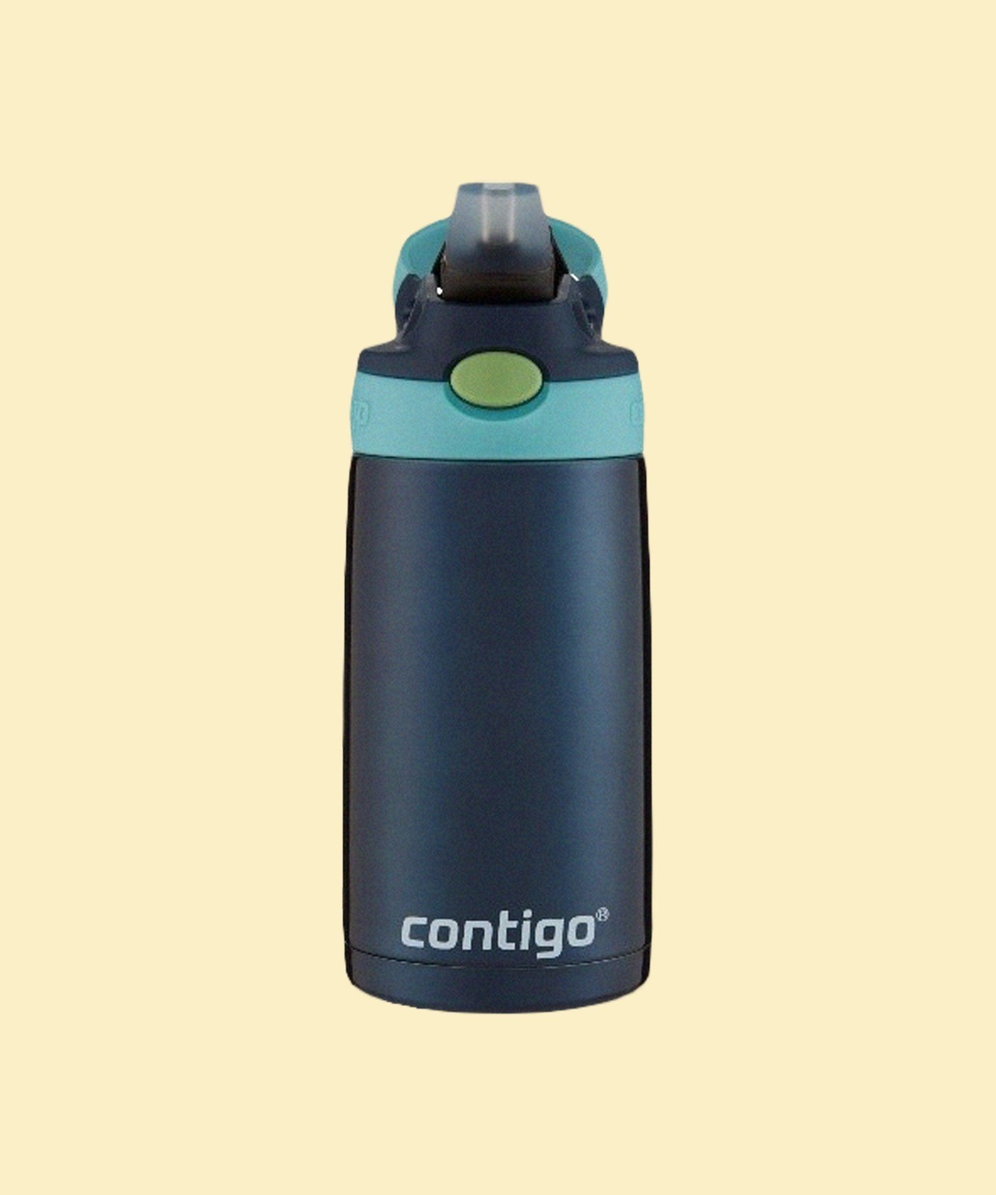gym bottle: (330, 170, 665, 1016)
